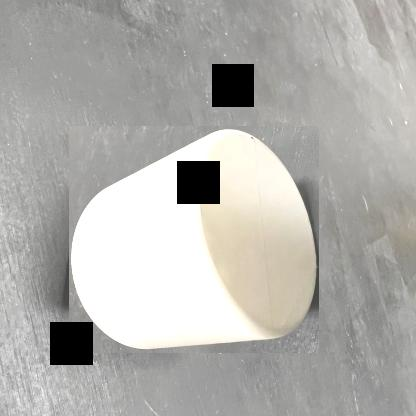white cylinder: (69, 126, 319, 353)
